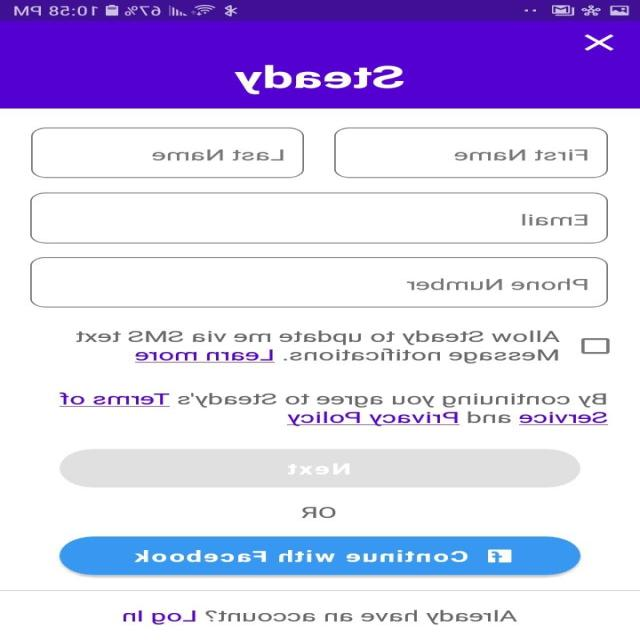EditText: (31, 256, 609, 308), (31, 192, 609, 243), (334, 127, 608, 178), (32, 127, 305, 178)
Icon: (584, 34, 614, 51)
Text: (59, 392, 609, 426), (76, 330, 561, 363), (124, 609, 518, 624), (234, 65, 404, 95), (407, 278, 588, 290), (454, 149, 588, 161), (152, 149, 284, 161), (522, 213, 588, 226), (301, 506, 336, 518)
TextButton: (61, 448, 582, 488), (59, 536, 582, 575)
